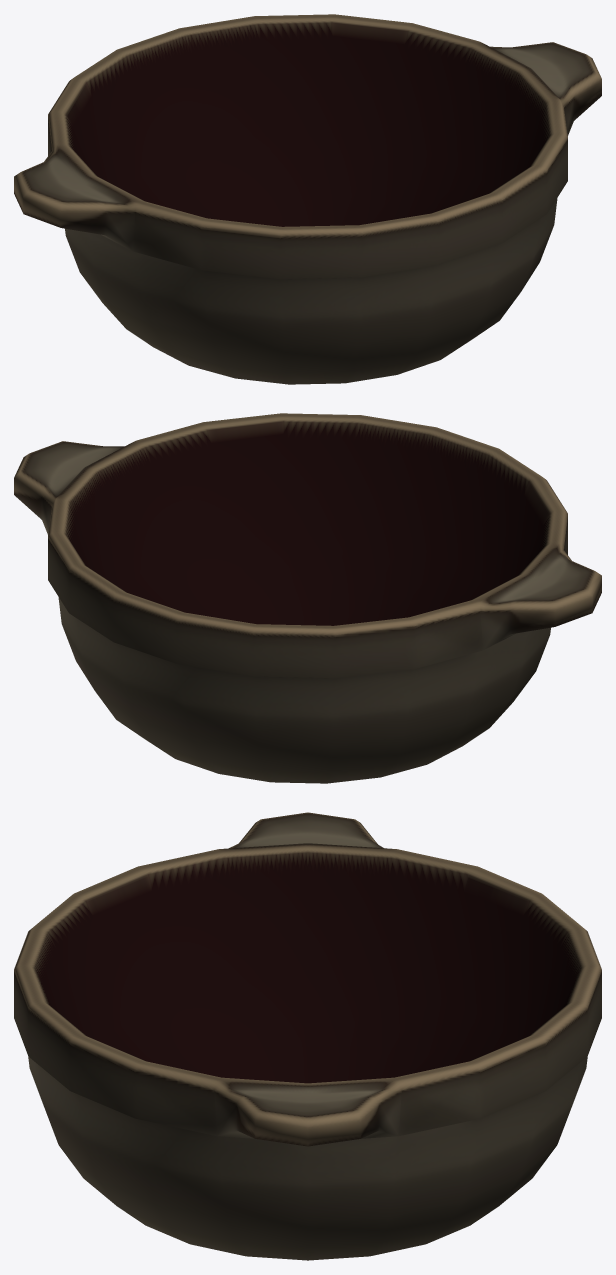
The model's file is JapaneseRestaurant_PotA.fbx.
3 views of the same model, one above another, from view 1: azimuth 30°, elevation 25°; view 2: azimuth 150°, elevation 25°; view 3: azimuth 270°, elevation 25° (orthographic). The views are drawn at different scales.
Visible parts, largest first — view 1: JapaneseRestaurant_PotA; view 2: JapaneseRestaurant_PotA; view 3: JapaneseRestaurant_PotA.
Part boxes in pixels (x1,y1,x2,y2): JapaneseRestaurant_PotA: (14,14,601,384); JapaneseRestaurant_PotA: (14,413,601,783); JapaneseRestaurant_PotA: (14,812,601,1260).
Size of the model in its own units: 23.19 by 8.67 by 18.46.
